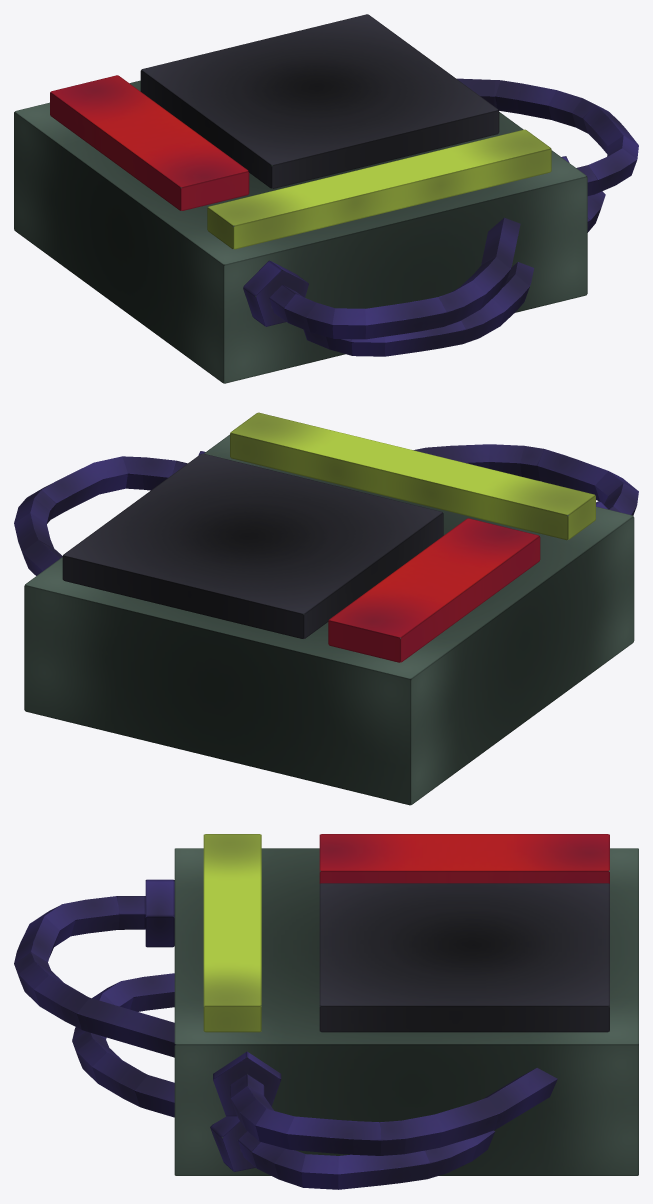
The picture shows the model from 3 angles, top to bottom: view 1: azimuth 30°, elevation 25°; view 2: azimuth 150°, elevation 25°; view 3: azimuth 270°, elevation 25°; orthographic projection. The views are drawn at different scales.
Visible parts, largest first — view 1: cuboid, cuboid_1, cuboid_2, cuboid_3, cylinder_2, cylinder, cylinder_3; view 2: cuboid, cuboid_1, cuboid_2, cuboid_3, cylinder, cylinder_2; view 3: cuboid, cuboid_1, cuboid_3, cylinder, cylinder_2, cuboid_2, cylinder_1, cylinder_3.
Part boxes in pixels (x1,y1,x2,y2): cuboid: (14,80,587,383); cuboid_1: (140,14,499,188); cuboid_2: (207,129,551,249); cuboid_3: (50,75,249,210); cylinder_2: (243,217,520,339); cylinder: (457,78,638,195); cylinder_3: (303,262,534,356); cuboid: (24,434,634,805); cuboid_1: (62,453,443,638); cuboid_2: (230,412,595,540); cuboid_3: (328,518,540,662); cylinder: (14,451,205,575); cylinder_2: (413,444,638,515); cuboid: (174,848,638,1175); cuboid_1: (319,883,609,1032); cuboid_3: (319,834,609,883); cylinder: (213,1051,557,1155); cylinder_2: (14,879,175,1057); cuboid_2: (203,834,261,1032); cylinder_1: (210,1116,495,1189); cylinder_3: (72,973,174,1117).
Size of the model in its own units: 131 by 37.5 by 135.
5 materials, 5 textured.
